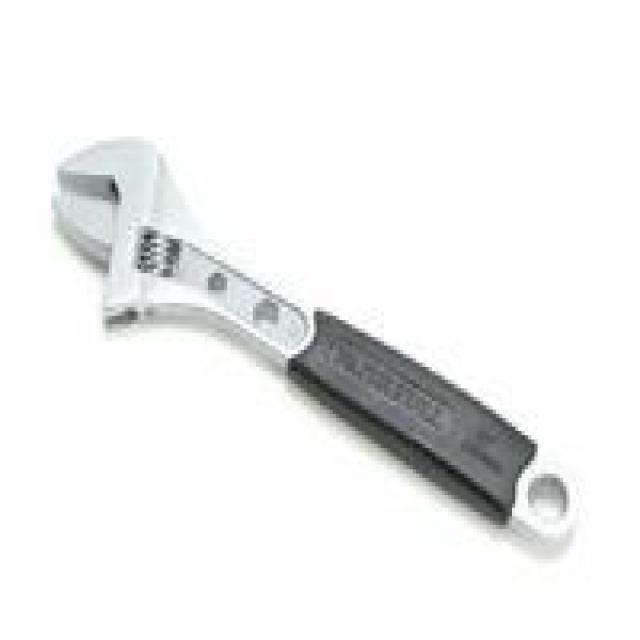wrench: (30, 94, 626, 567)
